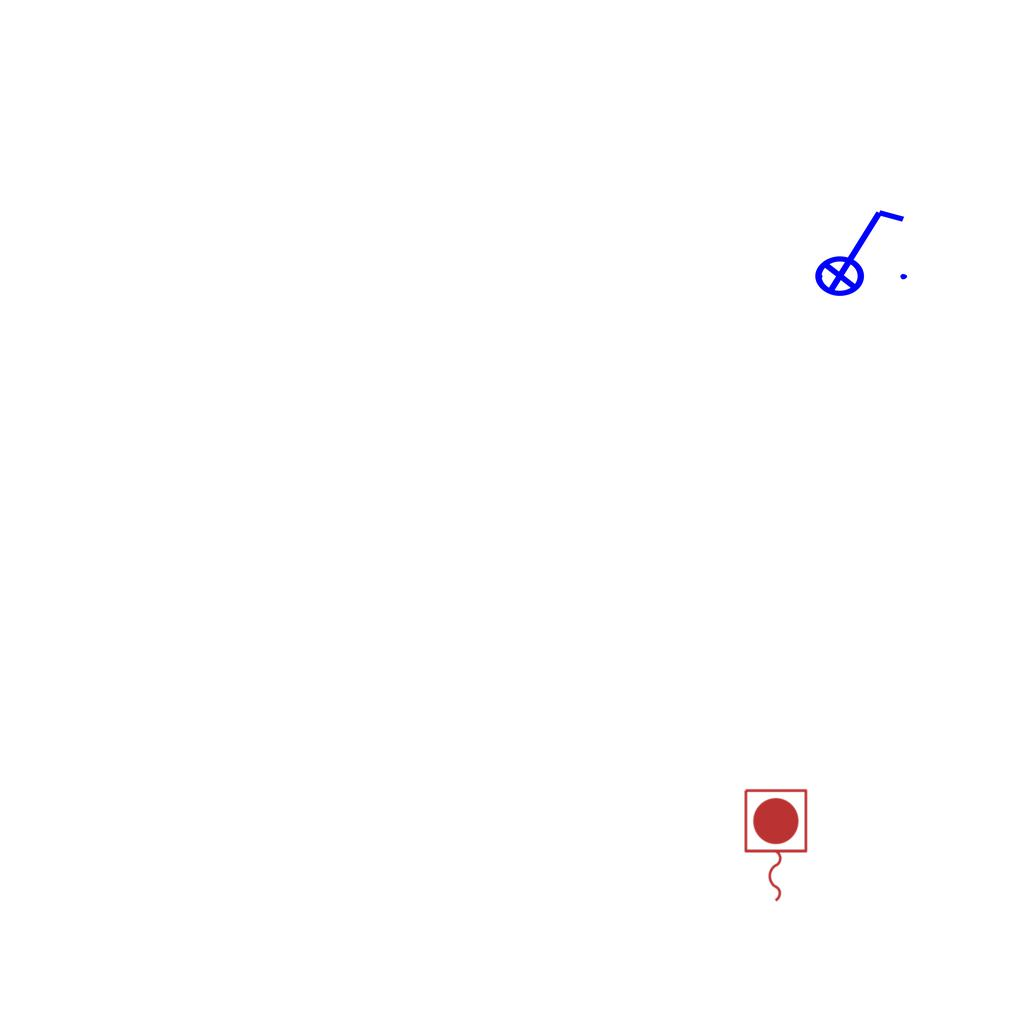Ausschalter_beleuchtet: (801, 202, 913, 298)
Zugtaster: (739, 785, 811, 907)
